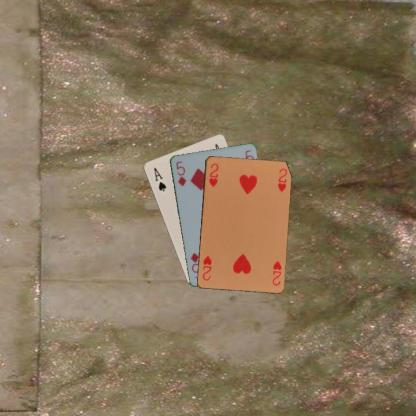2h: (206, 161, 220, 189), (270, 258, 282, 286)
5d: (174, 158, 188, 188)
As: (151, 165, 167, 192)
